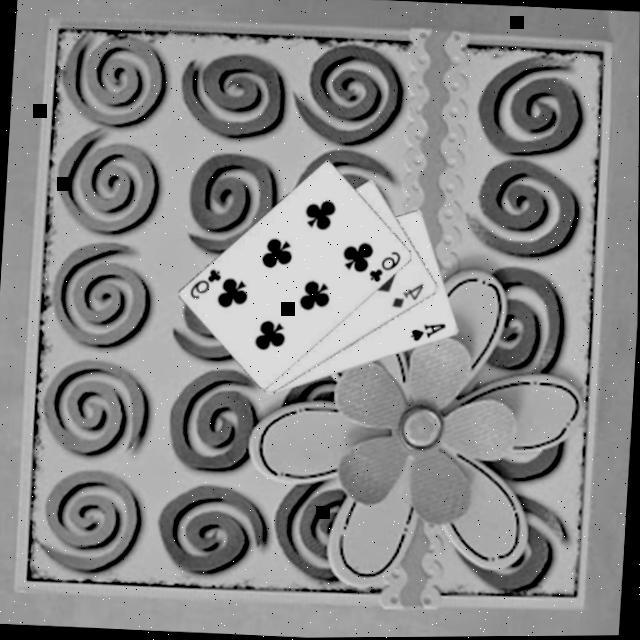4D: (387, 279, 427, 312)
6C: (365, 246, 403, 286), (185, 264, 223, 302)
AS: (407, 318, 448, 345)
